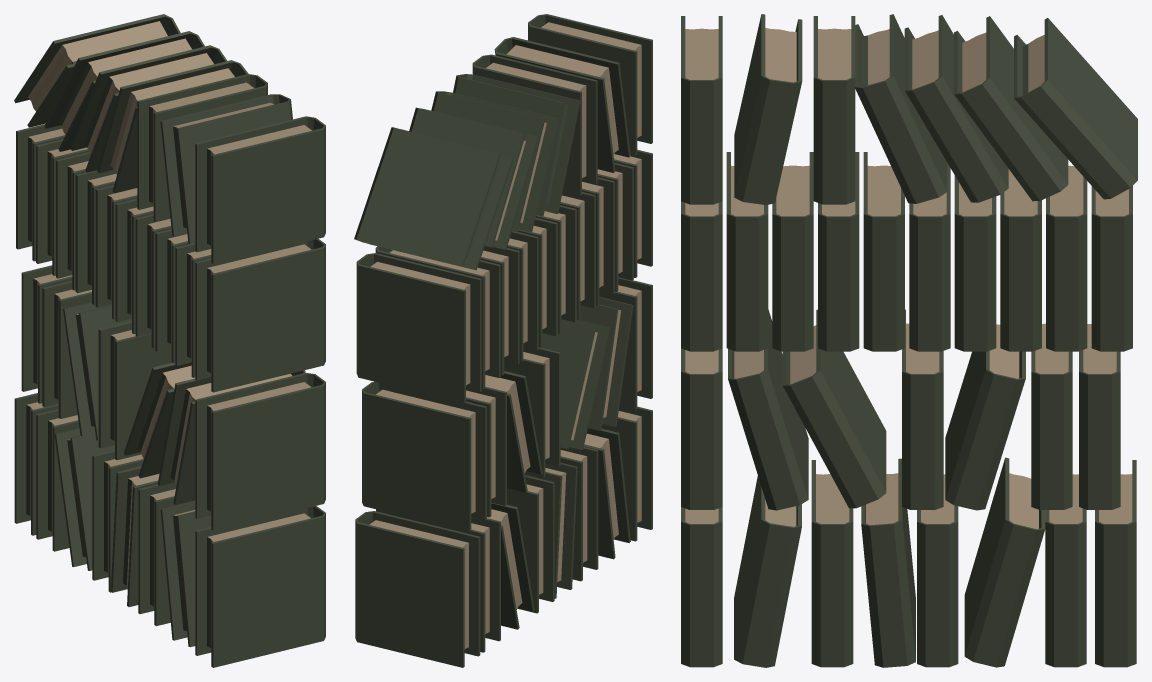
File: Shelf_Book.fbx
The picture shows the model from 3 angles, left to right: view 1: azimuth 30°, elevation 25°; view 2: azimuth 150°, elevation 25°; view 3: azimuth 270°, elevation 25°; orthographic projection. The views are drawn at different scales.
Visible parts, largest first — view 1: Book.001; view 2: Book.001; view 3: Book.001.
Boxes of the visible parts, <box> form: Book.001: <box>14,14,325,667</box>; Book.001: <box>354,14,652,667</box>; Book.001: <box>681,14,1137,667</box>.
Bounding box in the file's own units: 108 × 456 × 319.
